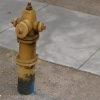a fire hydrant: (16, 6, 41, 91)
